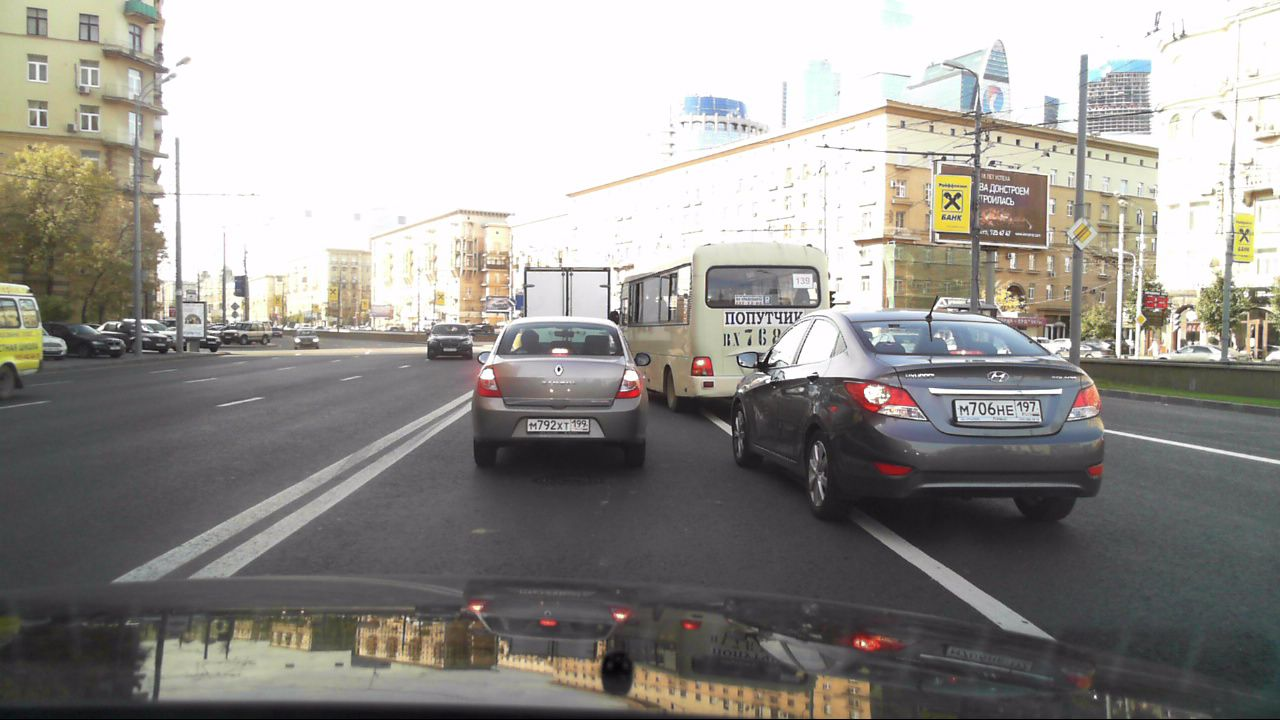main road: (1063, 214, 1097, 249)
